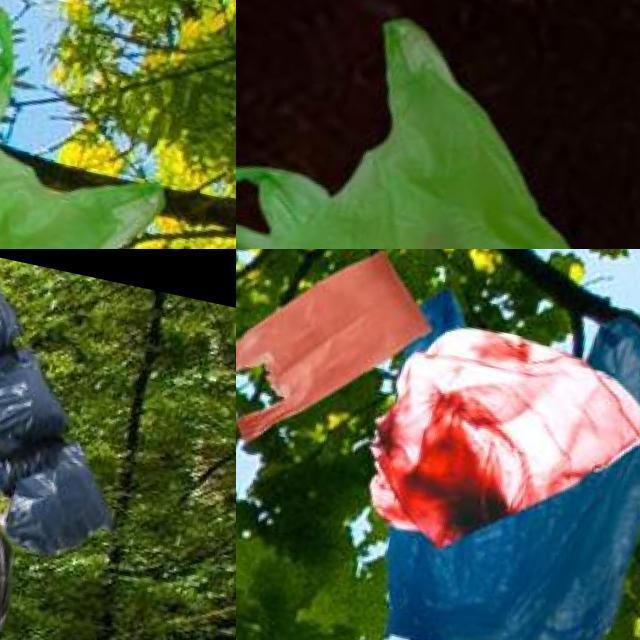waste: (351, 277, 640, 640), (236, 0, 640, 249), (0, 0, 191, 249), (236, 249, 439, 469), (0, 449, 118, 563), (0, 339, 72, 462), (0, 265, 26, 367)
